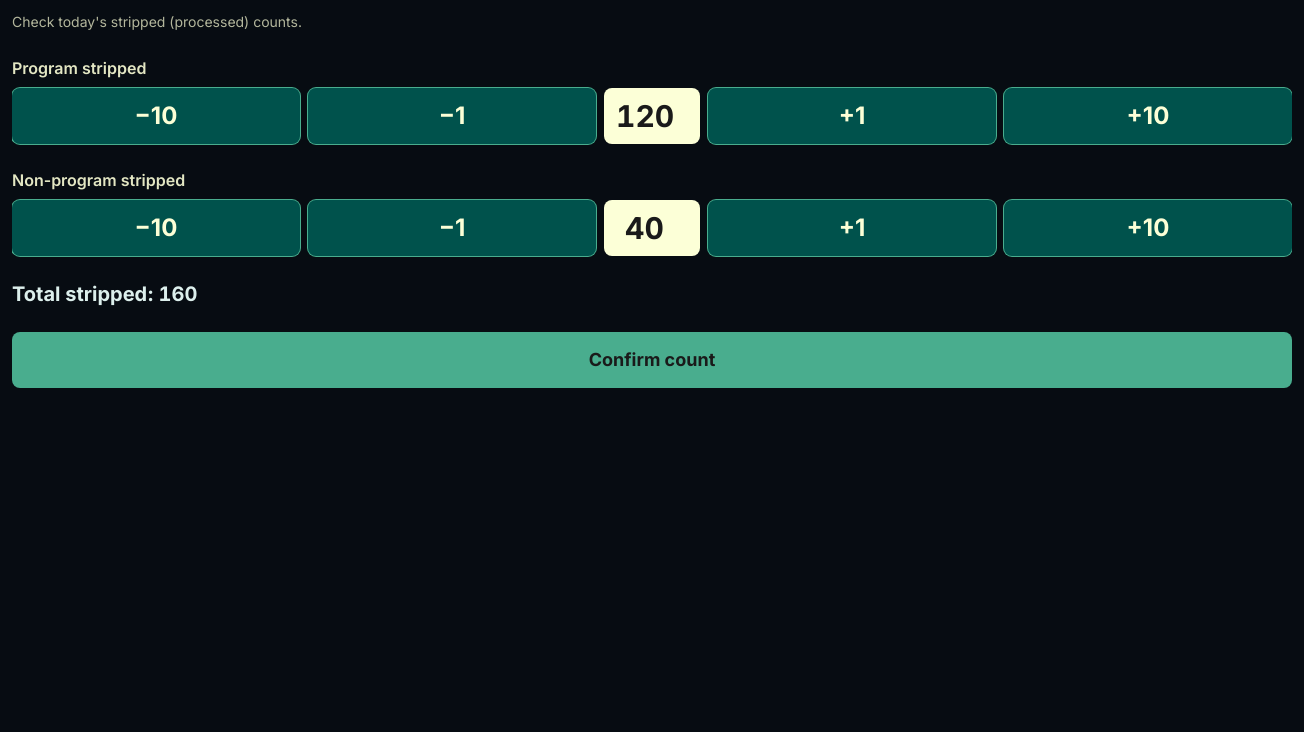
Scenario: 422 date_not_today › offers a reload that re-renders productionDate from the server
The image size is (1304, 732).
Click the button "Confirm count" at coordinates (652, 360), box [12, 332, 1292, 388]
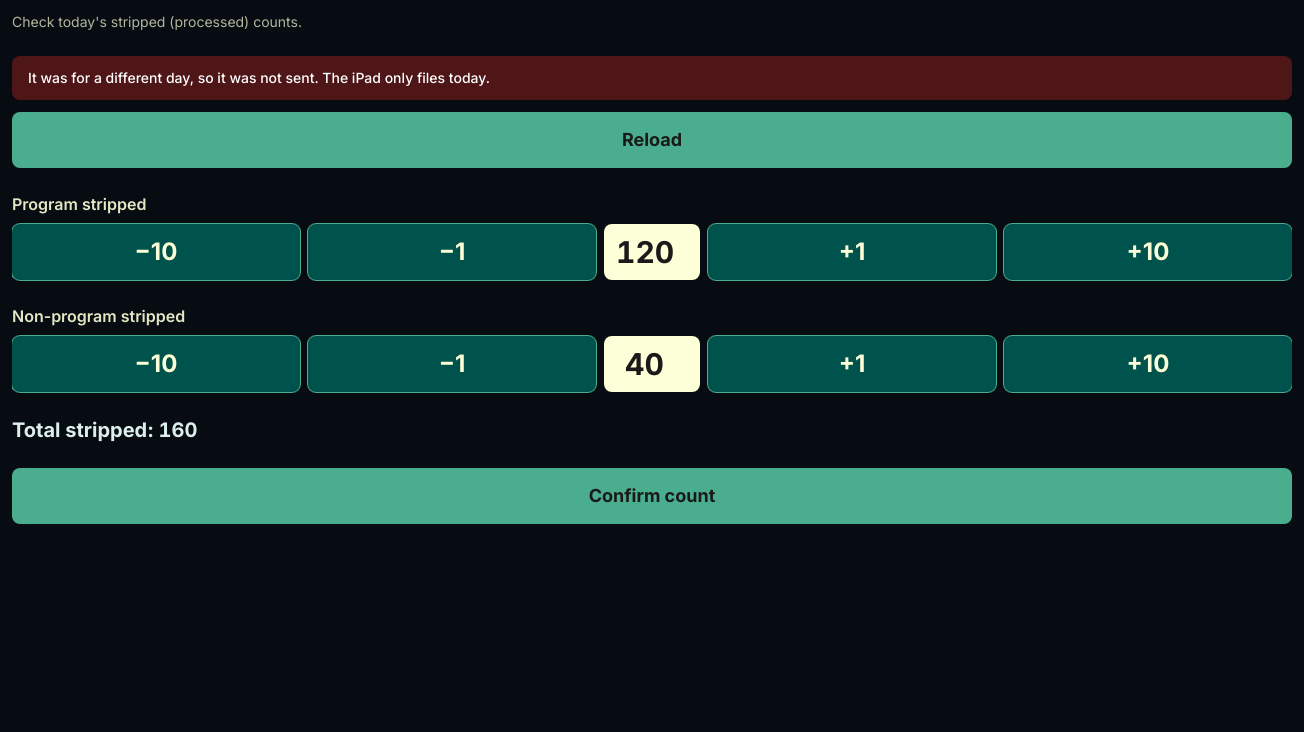
Expected: the button with test id "write-refusal-refresh" reads "Reload"
Click the button with test id "write-refusal-refresh" at coordinates (652, 140), box [12, 112, 1292, 168]
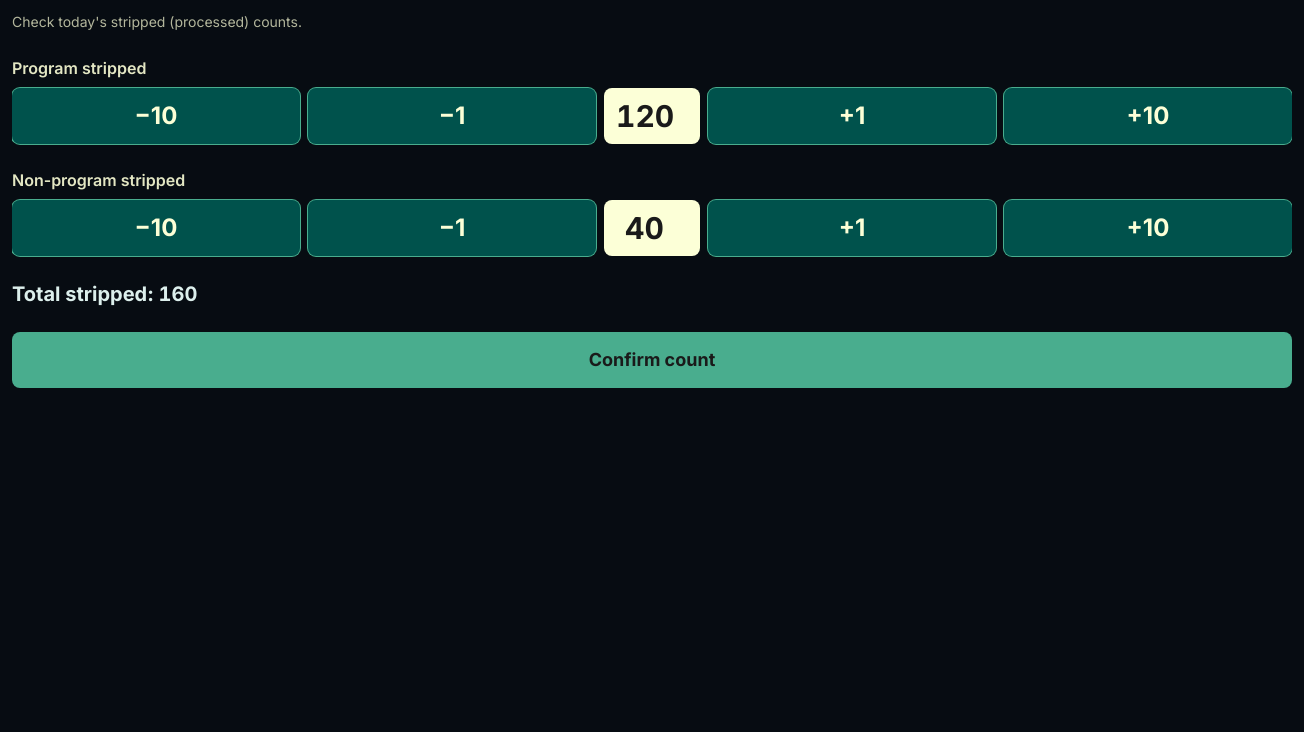
Expected: the element with test id "write-refusal" is gone
